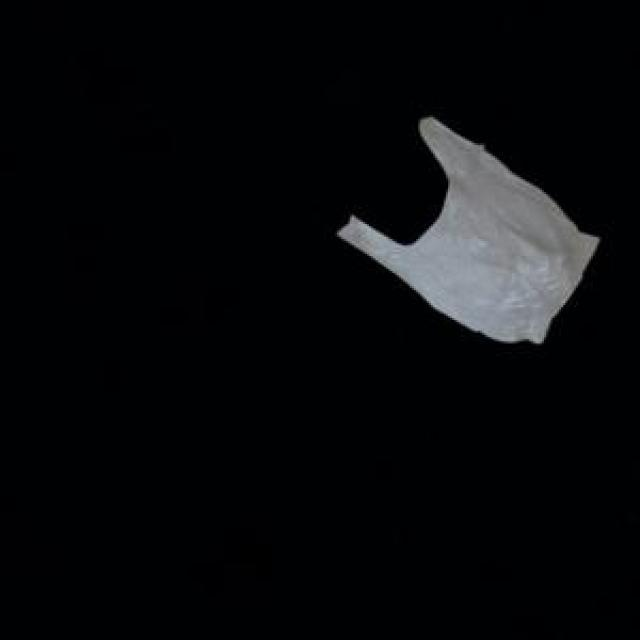waste: (338, 116, 599, 343)
